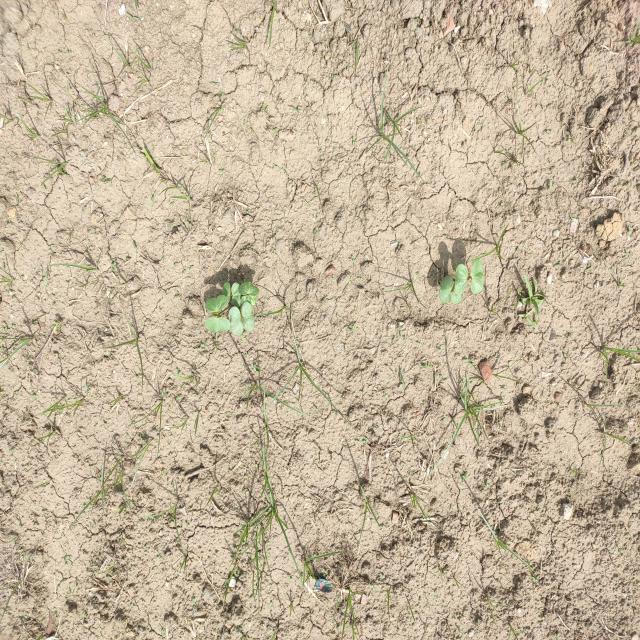seedling: (471, 259, 484, 294), (229, 306, 243, 336), (454, 264, 468, 293), (241, 301, 254, 331), (205, 295, 229, 311), (440, 275, 453, 304), (205, 317, 230, 332), (238, 281, 259, 296), (231, 283, 241, 308), (222, 282, 231, 303), (240, 295, 256, 306), (451, 288, 462, 304)
